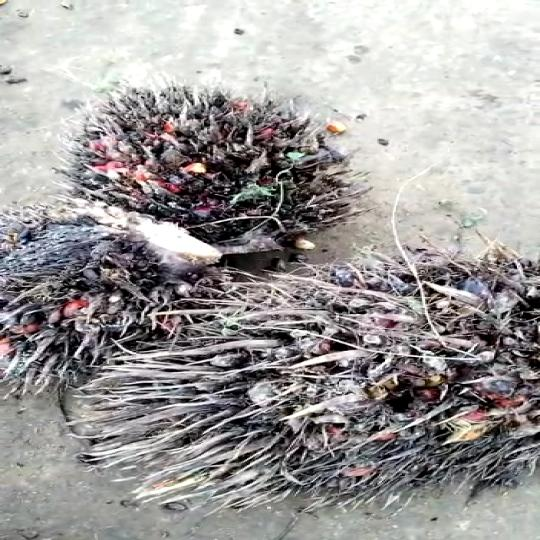terlalu masak: (81, 251, 540, 517), (75, 82, 344, 258), (0, 206, 226, 383)
